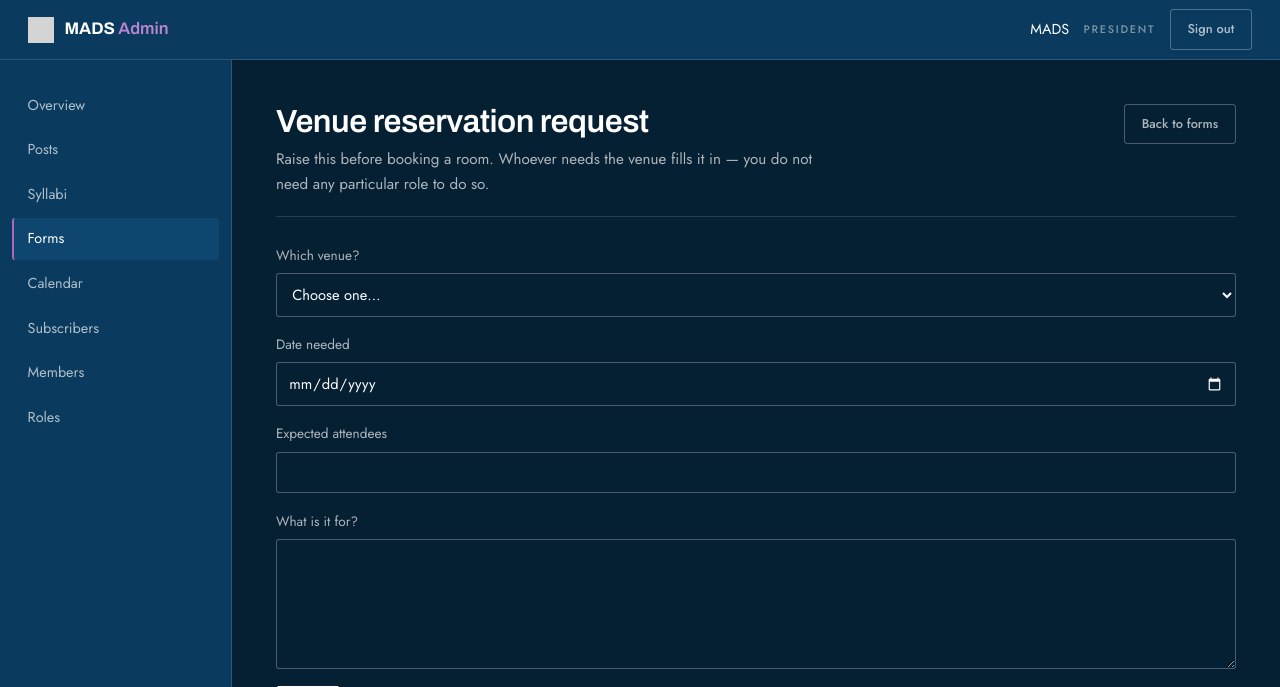
Test: FormFill › refuses a submission missing a required answer, keeping the rest typed
In the text box labelled "What is it for?": (756, 604) [276,539,1236,668], type "Study group kickoff."
(page scrolled)
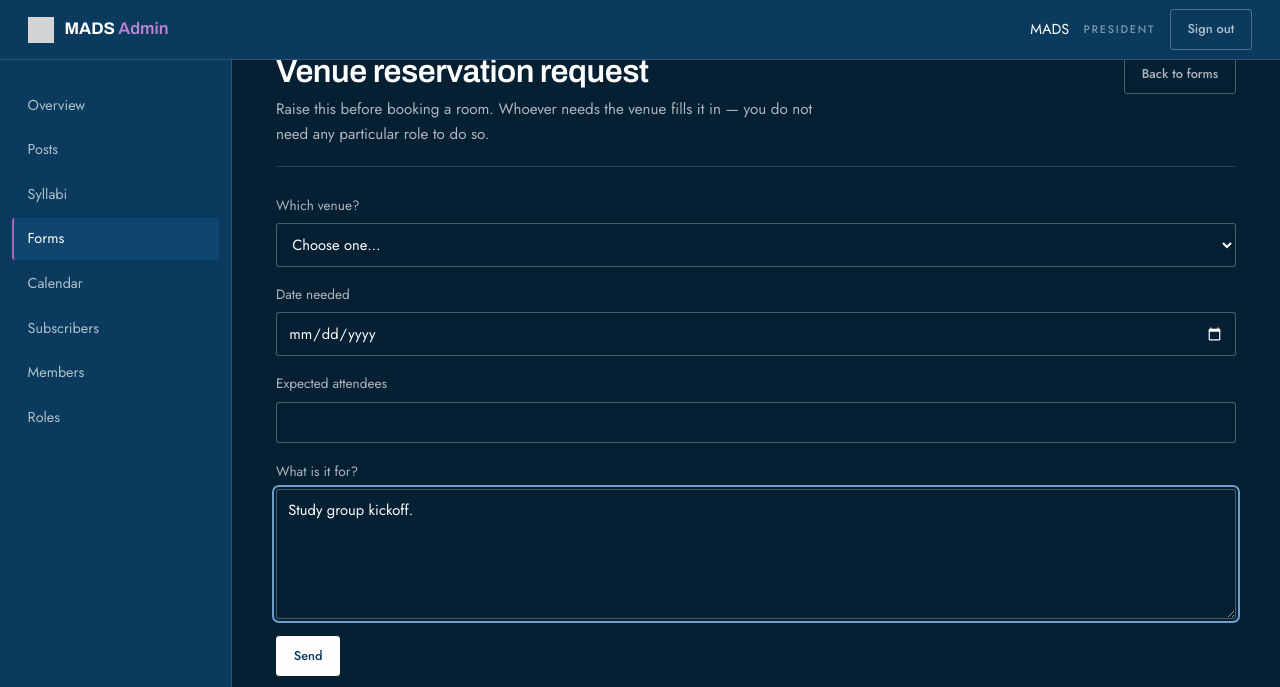
Click the button "Send": (308, 656) [276,636,340,676]
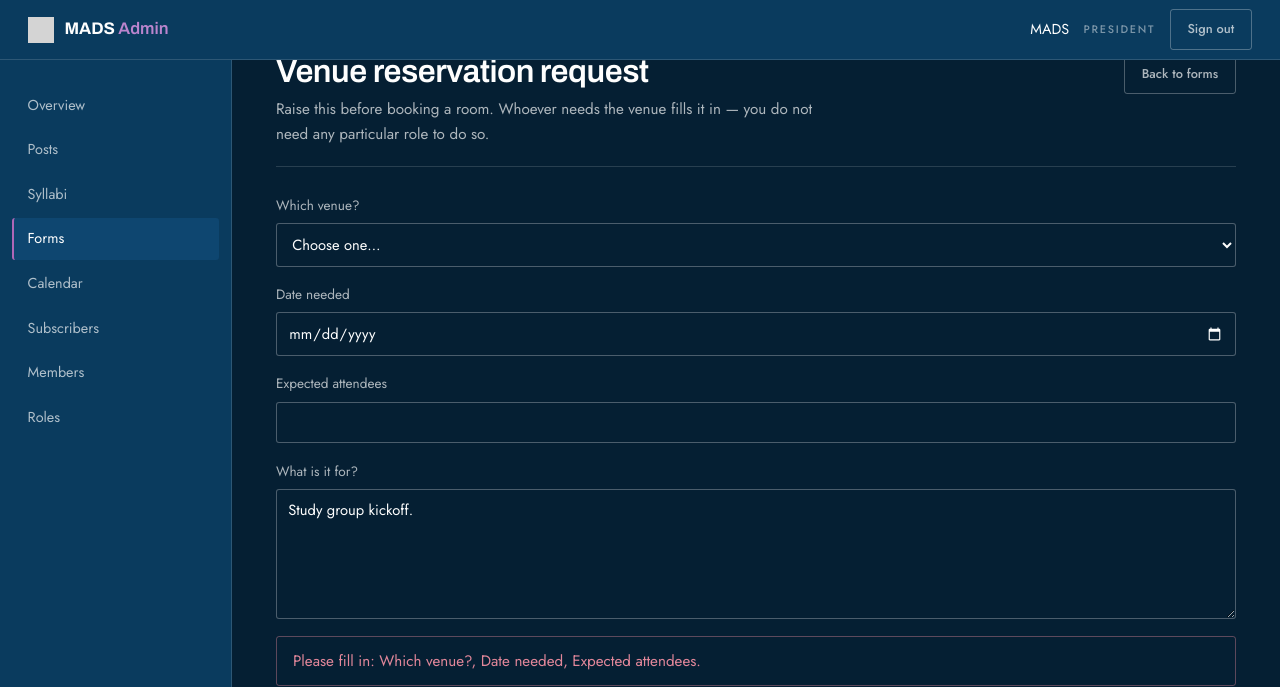
Now the message shows "Which venue", box [293,650,701,672]
